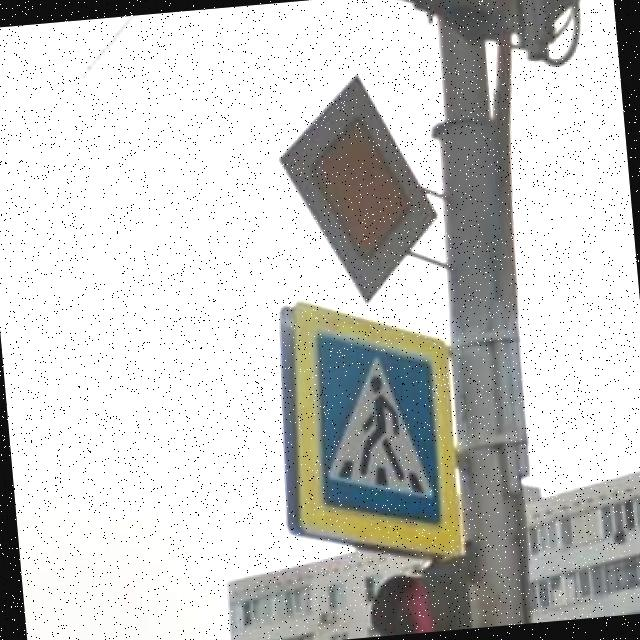Droga z pierwszenstwem: (272, 62, 445, 310)
Przejscie dla pieszych: (277, 284, 466, 574)
